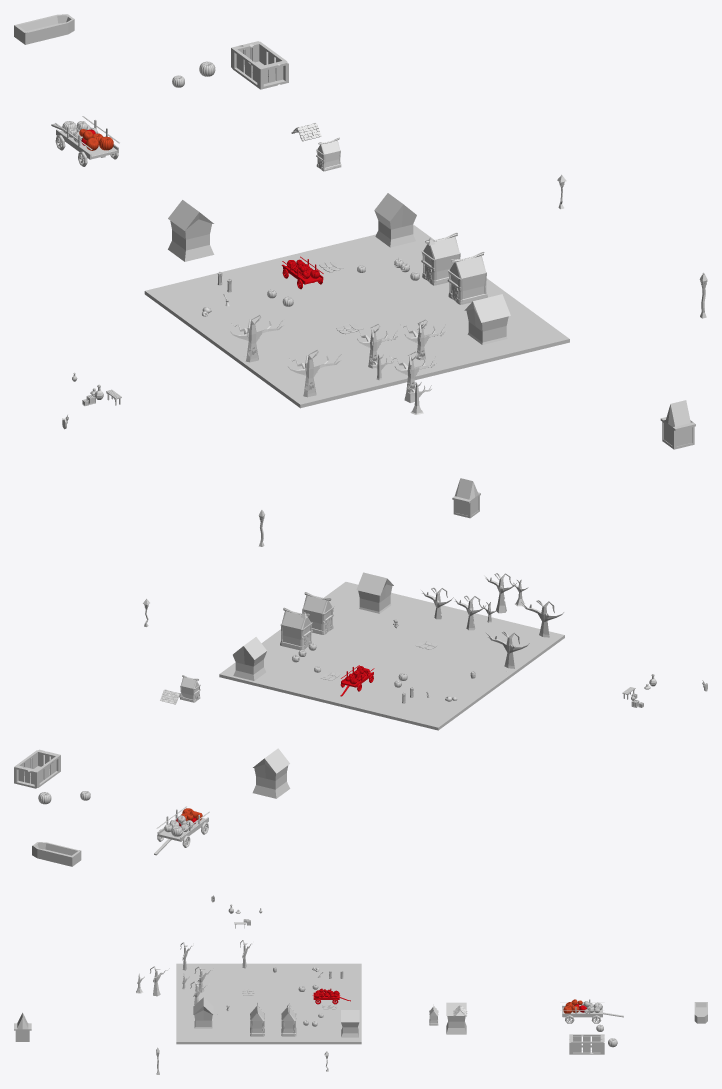
File: hallowen sehne 3 davami.fbx
3 renders of one model, top to bottom at view 1: azimuth 30°, elevation 25°; view 2: azimuth 150°, elevation 25°; view 3: azimuth 270°, elevation 25°, orthographic. The views are drawn at different scales.
Visible parts, largest first — view 1: Cube, Cube.006, Cube.001, Cube.011, Plane.002, Cube.002, Plane.003, Cube.003, Cube.012, Cube.013, Cube.021, Cylinder.019 (+1 smaller); view 2: Cube, Cube.001, Cube.006, Cube.011, Plane.003, Cube.002, Plane.002, Cube.012, Cube.003; view 3: Cube, Cube.006, Cube.001, Cube.011, Cube.002, Plane.003, Plane.002, Cube.012, Cube.021, Cube.013.
Part boxes in pixels (left/top/right/bottom): Cube: left=144, top=225, right=569, bottom=408; Cube.006: left=231, top=41, right=288, bottom=89; Cube.001: left=168, top=200, right=214, bottom=261; Cube.011: left=464, top=294, right=510, bottom=344; Plane.002: left=447, top=251, right=487, bottom=304; Cube.002: left=374, top=193, right=416, bottom=247; Plane.003: left=421, top=232, right=460, bottom=285; Cube.003: left=14, top=14, right=74, bottom=44; Cube.012: left=660, top=400, right=695, bottom=449; Cube.013: left=55, top=116, right=119, bottom=159; Cube.021: left=281, top=256, right=323, bottom=289; Cylinder.019: left=288, top=349, right=341, bottom=397; Cube: left=219, top=582, right=564, bottom=730; Cube.001: left=252, top=748, right=290, bottom=798; Cube.006: left=14, top=749, right=60, bottom=788; Cube.011: left=356, top=572, right=393, bottom=613; Plane.003: left=280, top=607, right=312, bottom=650; Cube.002: left=233, top=637, right=266, bottom=680; Plane.002: left=302, top=592, right=333, bottom=634; Cube.012: left=452, top=478, right=480, bottom=518; Cube.003: left=32, top=842, right=81, bottom=866; Cube: left=176, top=963, right=361, bottom=1044; Cube.006: left=569, top=1034, right=604, bottom=1054; Cube.001: left=446, top=1002, right=466, bottom=1034; Cube.011: left=193, top=997, right=213, bottom=1028; Cube.002: left=341, top=1010, right=359, bottom=1037; Plane.003: left=281, top=1003, right=296, bottom=1036; Plane.002: left=250, top=1003, right=264, bottom=1036; Cube.012: left=14, top=1012, right=31, bottom=1041; Cube.021: left=312, top=988, right=350, bottom=1004; Cube.013: left=561, top=999, right=604, bottom=1017.
Size of the model in its own units: 36290 by 5761 by 61194.
